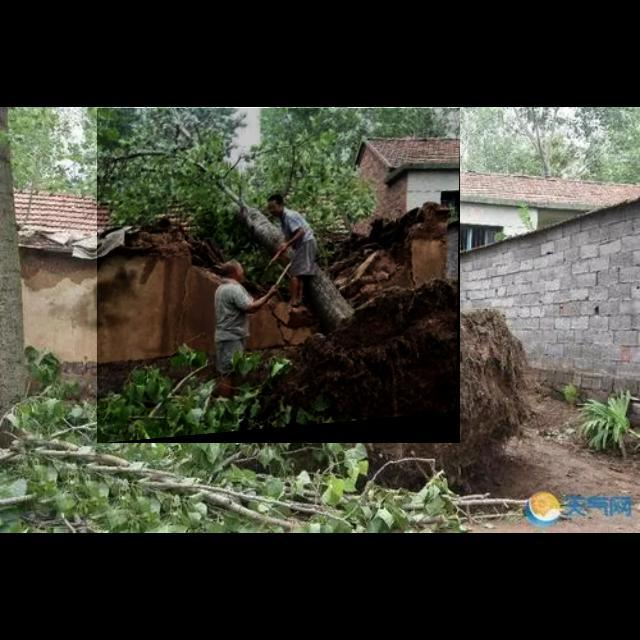fallen_tree: (97, 108, 461, 444)
